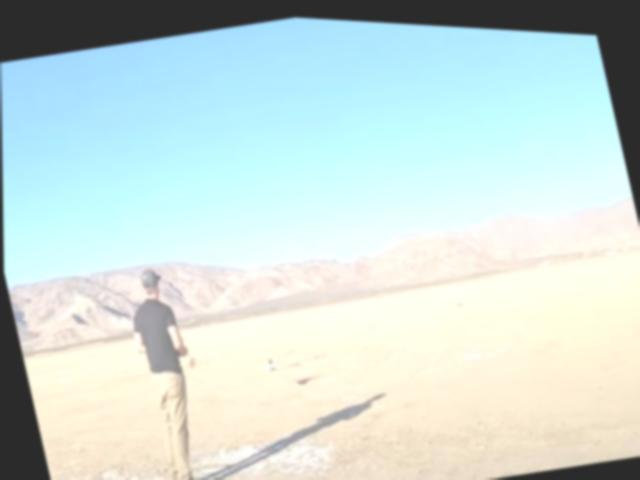iha: (259, 345, 299, 373)
